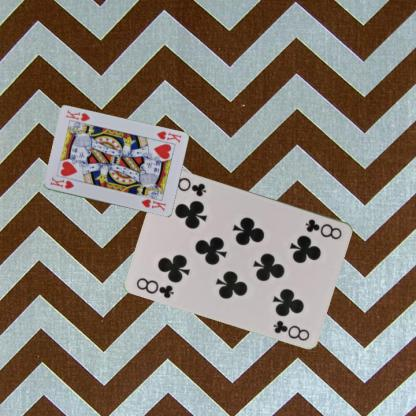8c: (134, 275, 176, 299), (303, 216, 344, 240)
Kh: (47, 175, 75, 190), (154, 129, 182, 144)
